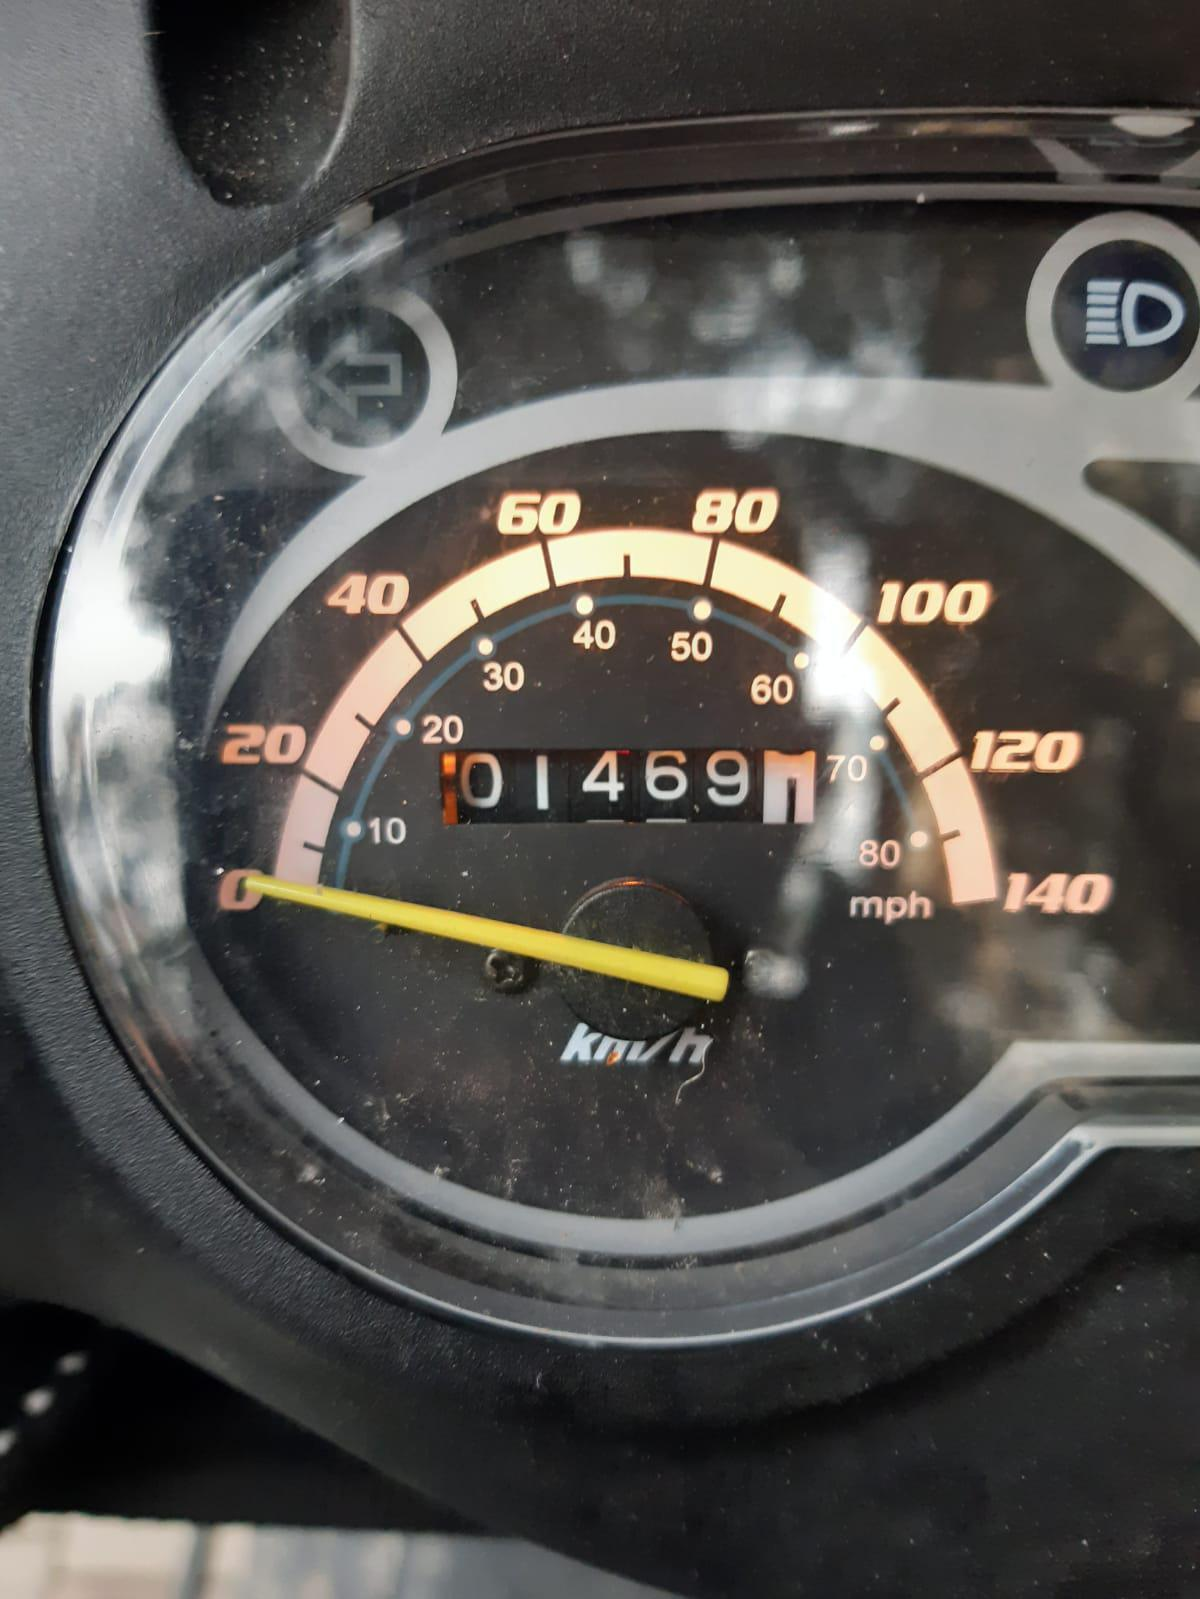0: (458, 750, 512, 814)
1: (773, 764, 808, 829), (528, 748, 560, 818)
4: (580, 746, 632, 806)
6: (643, 743, 689, 801)
9: (702, 748, 755, 806)
odometer: (437, 738, 829, 830)
